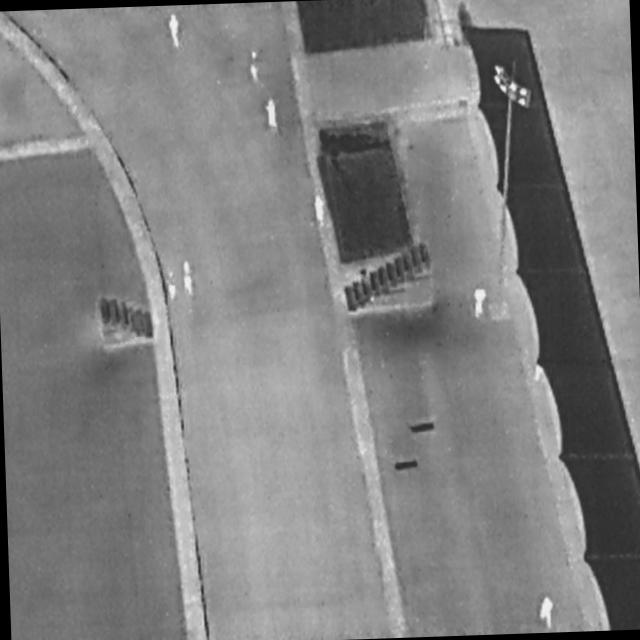person: (166, 10, 186, 52), (539, 591, 557, 631), (472, 286, 489, 324), (263, 95, 280, 130), (314, 194, 329, 229), (248, 48, 263, 82), (182, 261, 195, 299), (165, 267, 178, 301)
